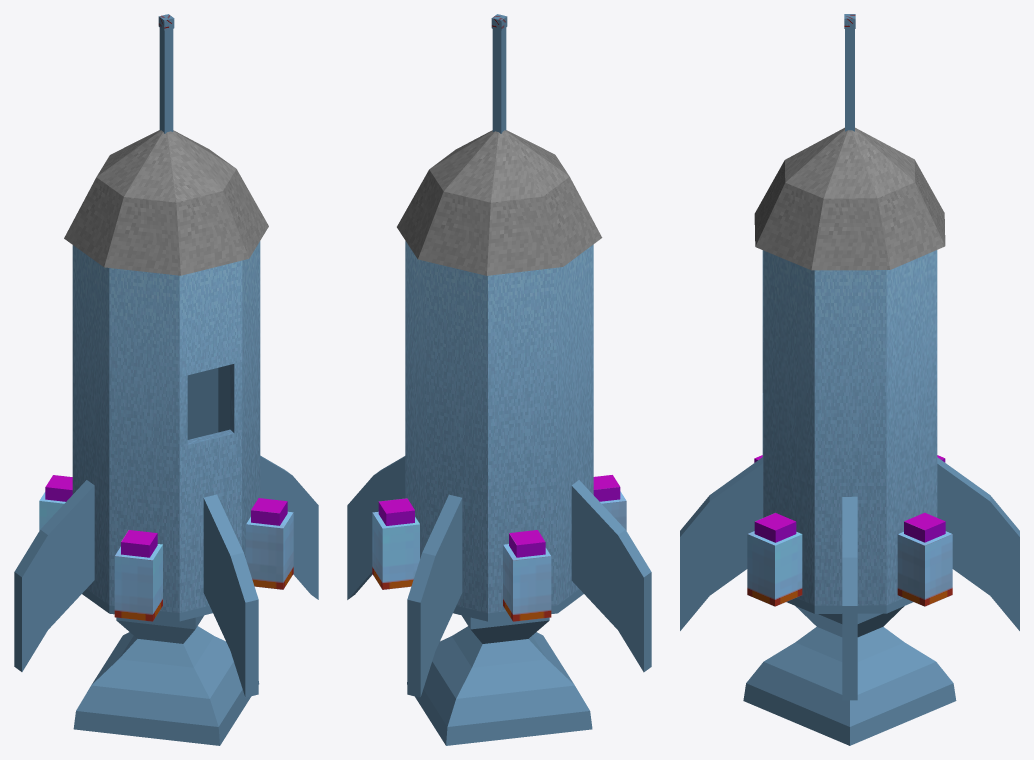
Rendered from tier7rocket.obj.
3 views of the same model, side by side, from view 1: azimuth 30°, elevation 25°; view 2: azimuth 150°, elevation 25°; view 3: azimuth 270°, elevation 25° (orthographic).
Parts seen in each view (by area): view 1: Rocket, NoseCone, Boosters; view 2: Rocket, NoseCone, Boosters; view 3: Rocket, NoseCone, Boosters.
Part boxes in pixels (bbox=[...]): Rocket: bbox=[14, 27, 318, 745]; NoseCone: bbox=[64, 130, 268, 275]; Boosters: bbox=[39, 475, 293, 621]; Rocket: bbox=[347, 27, 651, 745]; NoseCone: bbox=[397, 130, 602, 275]; Boosters: bbox=[372, 475, 626, 621]; Rocket: bbox=[680, 29, 1019, 745]; NoseCone: bbox=[754, 127, 945, 270]; Boosters: bbox=[747, 455, 952, 606].
Bounding box in the file's own units: 3.61 × 8.02 × 3.61.
